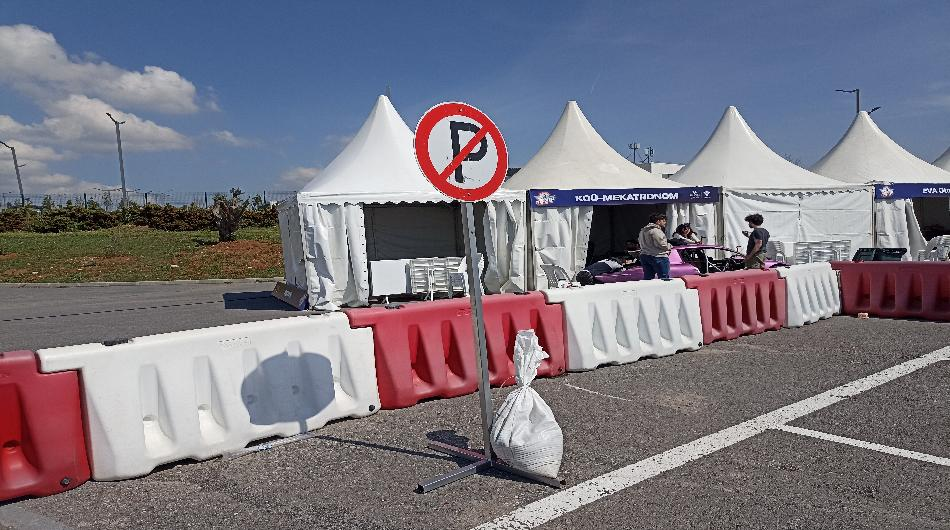park_yapilmaz_3: (412, 113, 516, 214)
